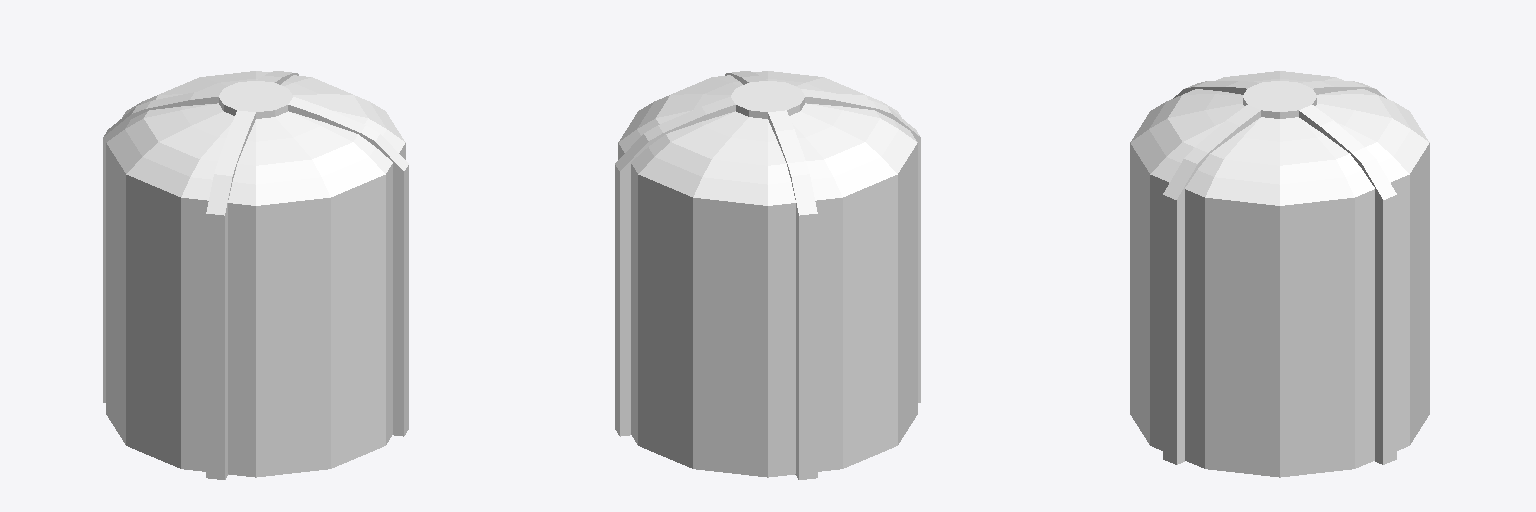
File: Warhead.obj
3 renders of one model, left to right at view 1: azimuth 30°, elevation 25°; view 2: azimuth 150°, elevation 25°; view 3: azimuth 270°, elevation 25°, orthographic.
Parts seen in each view (by area): view 1: Warhead; view 2: Warhead; view 3: Warhead.
Part boxes in pixels (x1,y1,x2,y2): Warhead: (103,71,408,479); Warhead: (615,71,920,479); Warhead: (1130,71,1429,477).
Bounding box in the file's own units: 10 × 11.76 × 10.